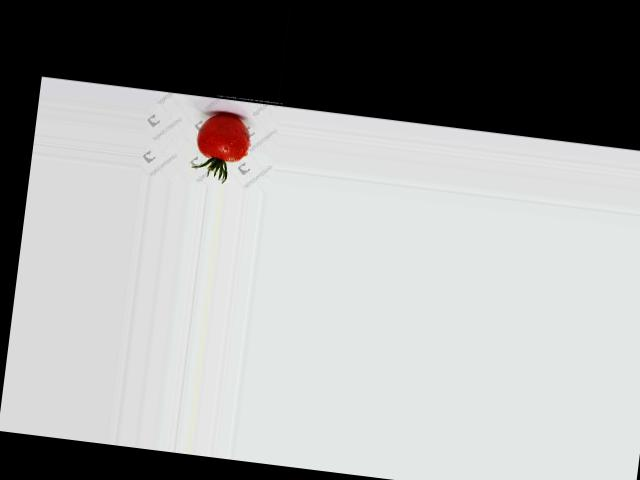tomato: (194, 110, 251, 163)
